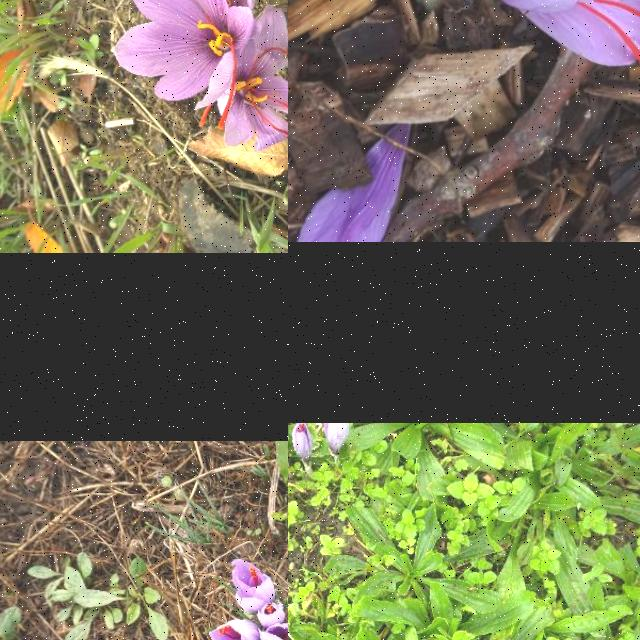flower: (473, 0, 640, 71), (232, 559, 276, 613), (260, 600, 288, 640), (209, 619, 261, 640), (256, 601, 286, 627), (292, 424, 312, 461)
overlap: (112, 0, 288, 151)
